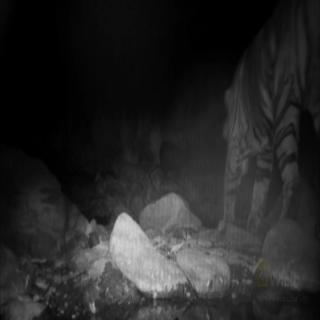Tiger: (214, 0, 320, 243)
